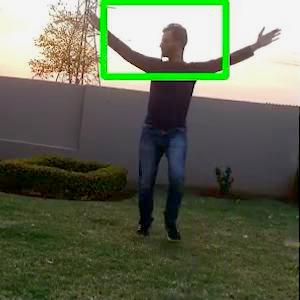takeoff: (104, 6, 288, 245)
